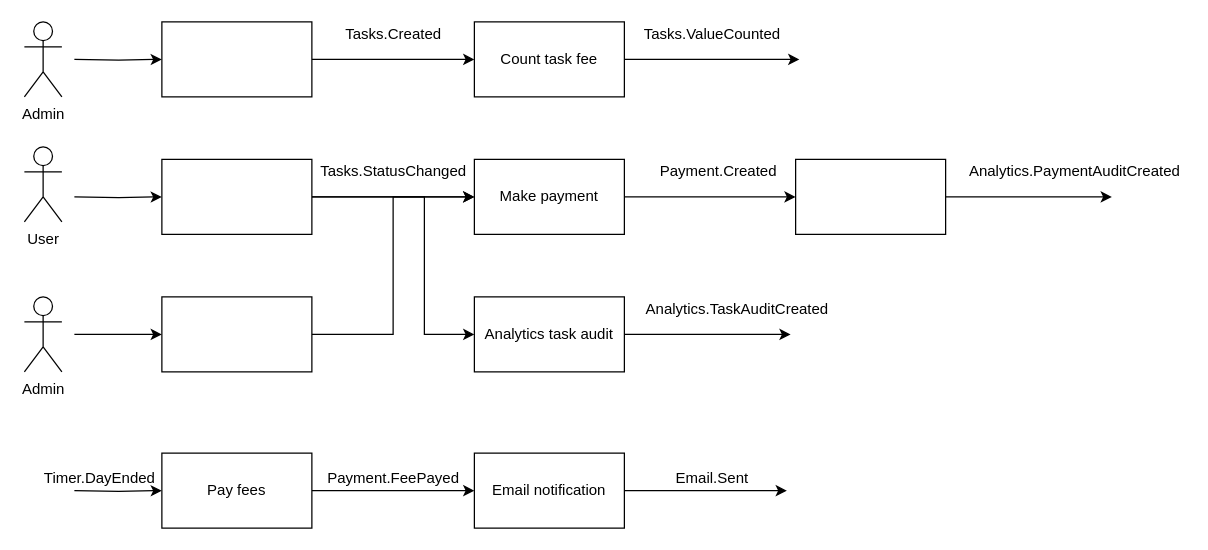
Image size: 1208x550. Some labels were removed from this diagram. Each missing label, with the box of its shape:
Analytics payment audit: (794, 158, 946, 234)
Create task: (161, 21, 312, 97)
Finish task: (161, 158, 312, 234)
Shuffle tasks: (161, 296, 312, 372)
